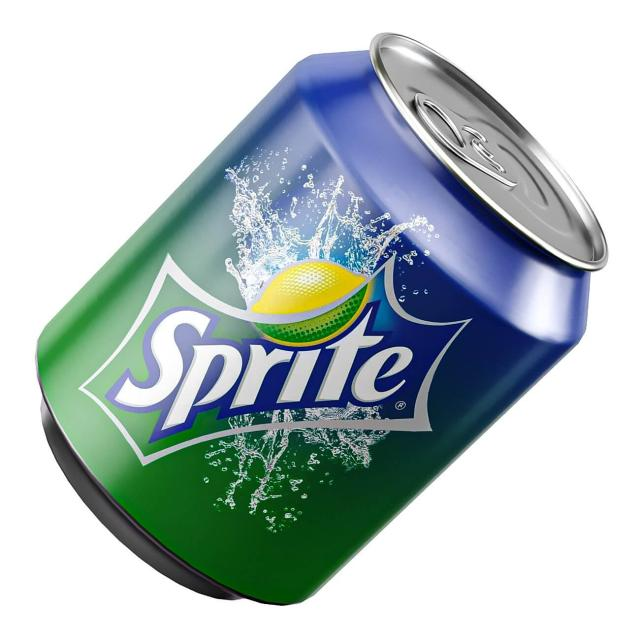sprite: (45, 40, 616, 608)
